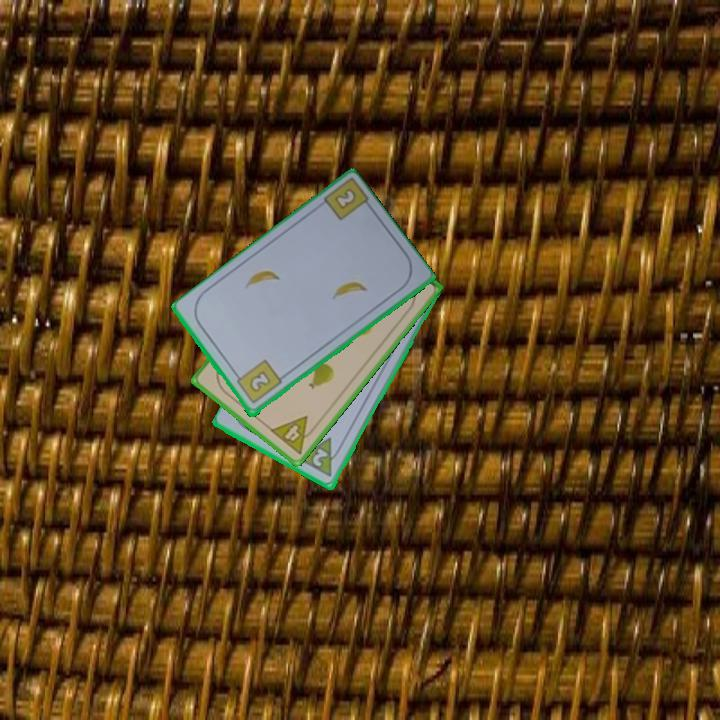2b: (231, 357, 285, 407), (333, 187, 357, 210)
2p: (294, 434, 346, 481)
4p: (266, 412, 321, 457)
